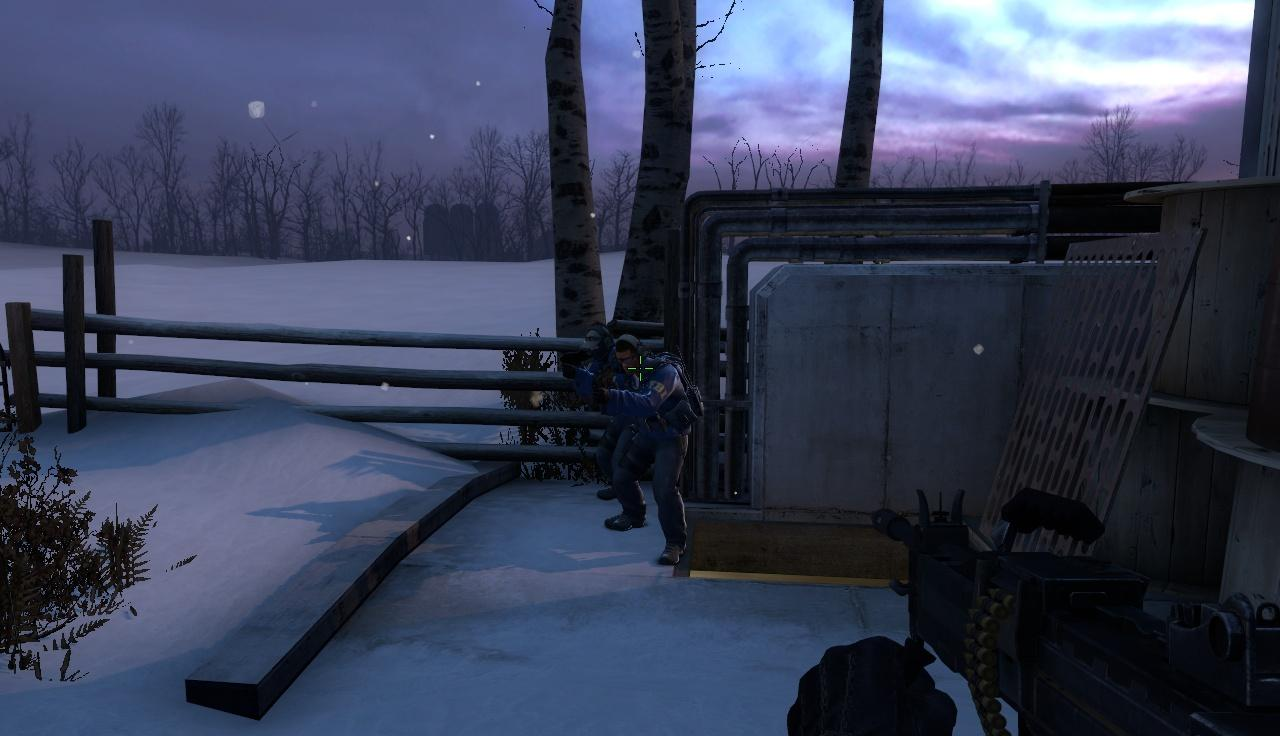ct: (614, 336, 690, 558), (569, 320, 612, 500)
cthead: (616, 337, 645, 377), (584, 326, 612, 361)
rifle: (869, 492, 1280, 736)
